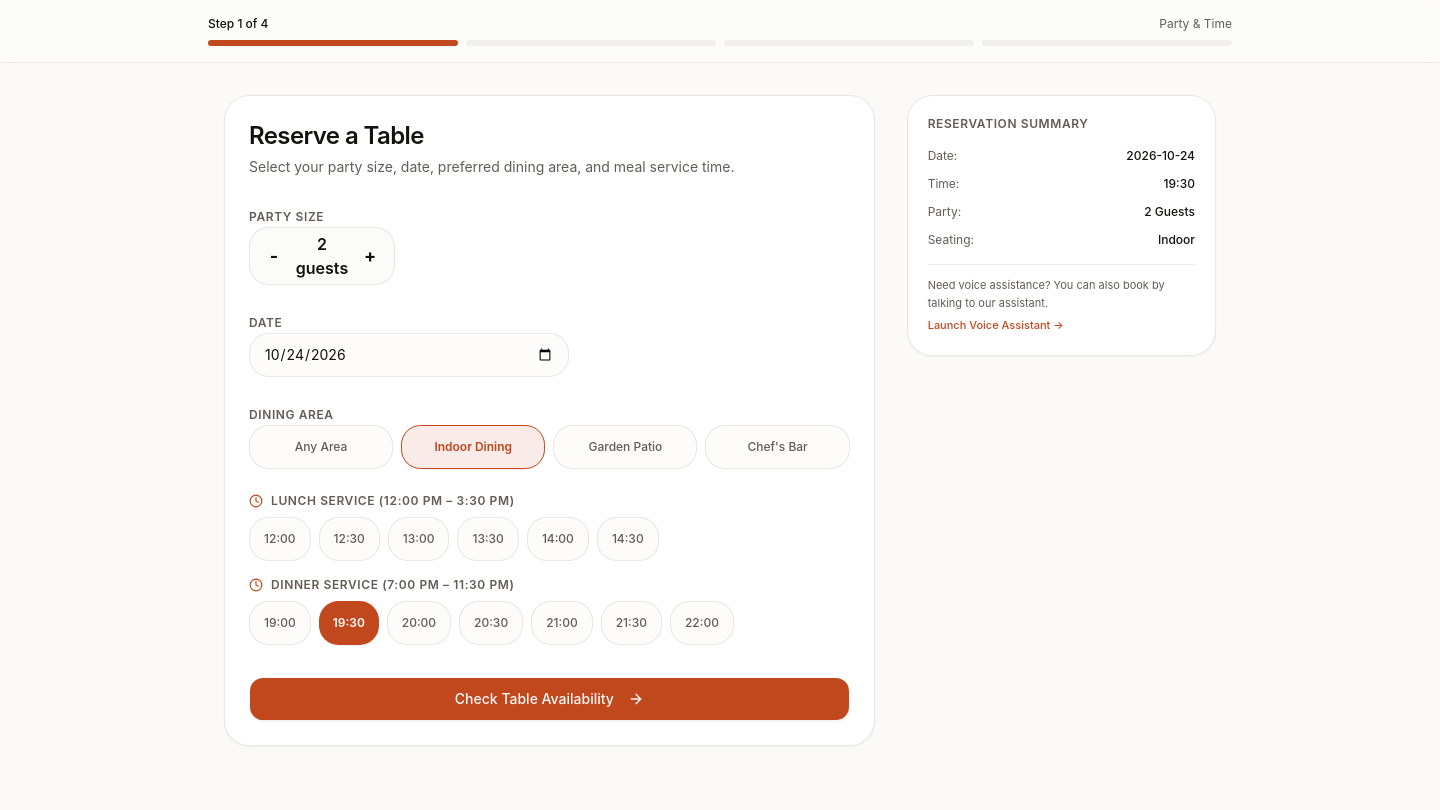
Test case: Reserve Page (/reserve) › displays ranked alternatives when peak conflict time is checked
This screenshot has width=1440, height=810.
// Pick 20:00 (configured conflict slot)
Click the button "20:00".
click(419, 623)  # box x1=387 y1=601 x2=451 y2=645
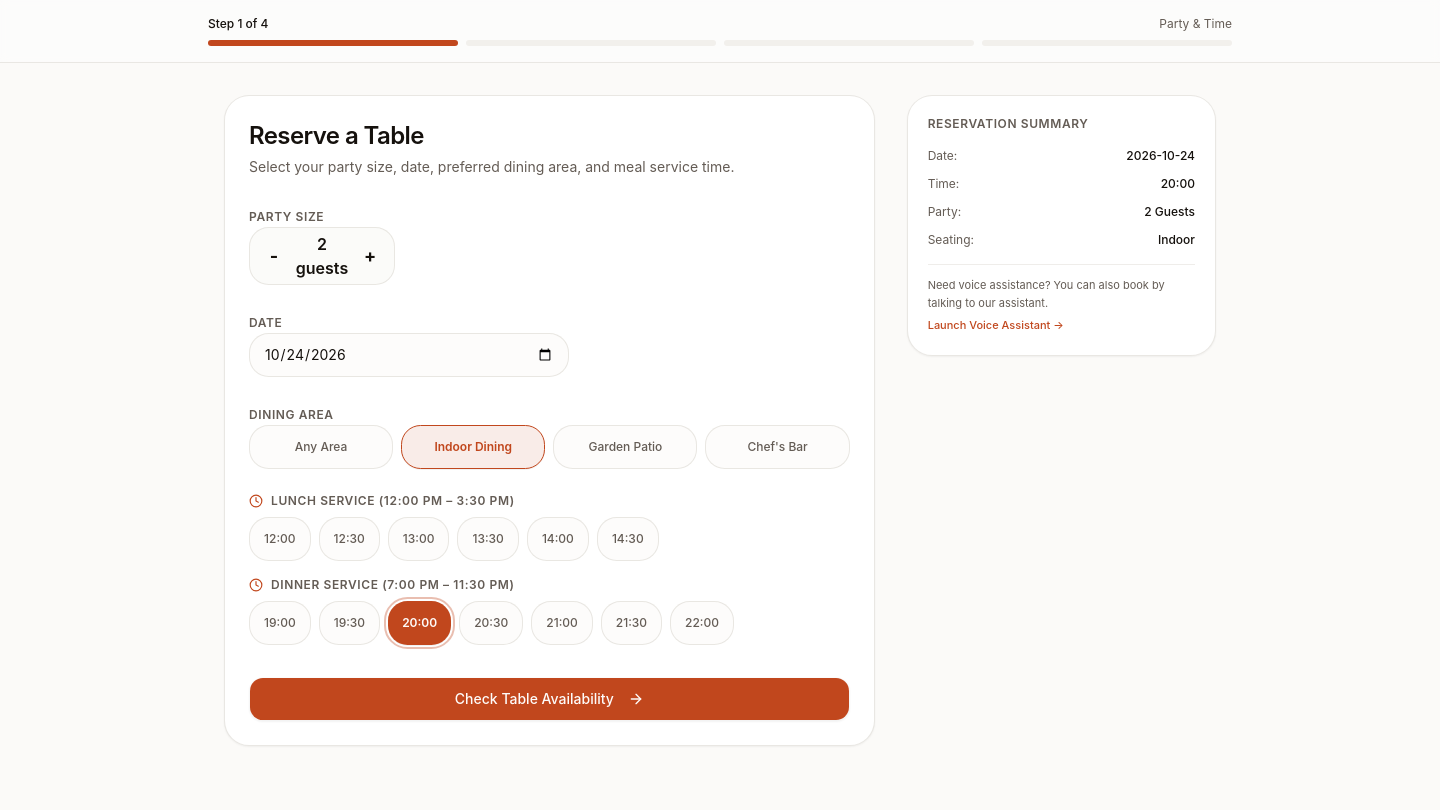
Click the button "Check Table Availability".
click(549, 699)  # box x1=249 y1=677 x2=850 y2=721
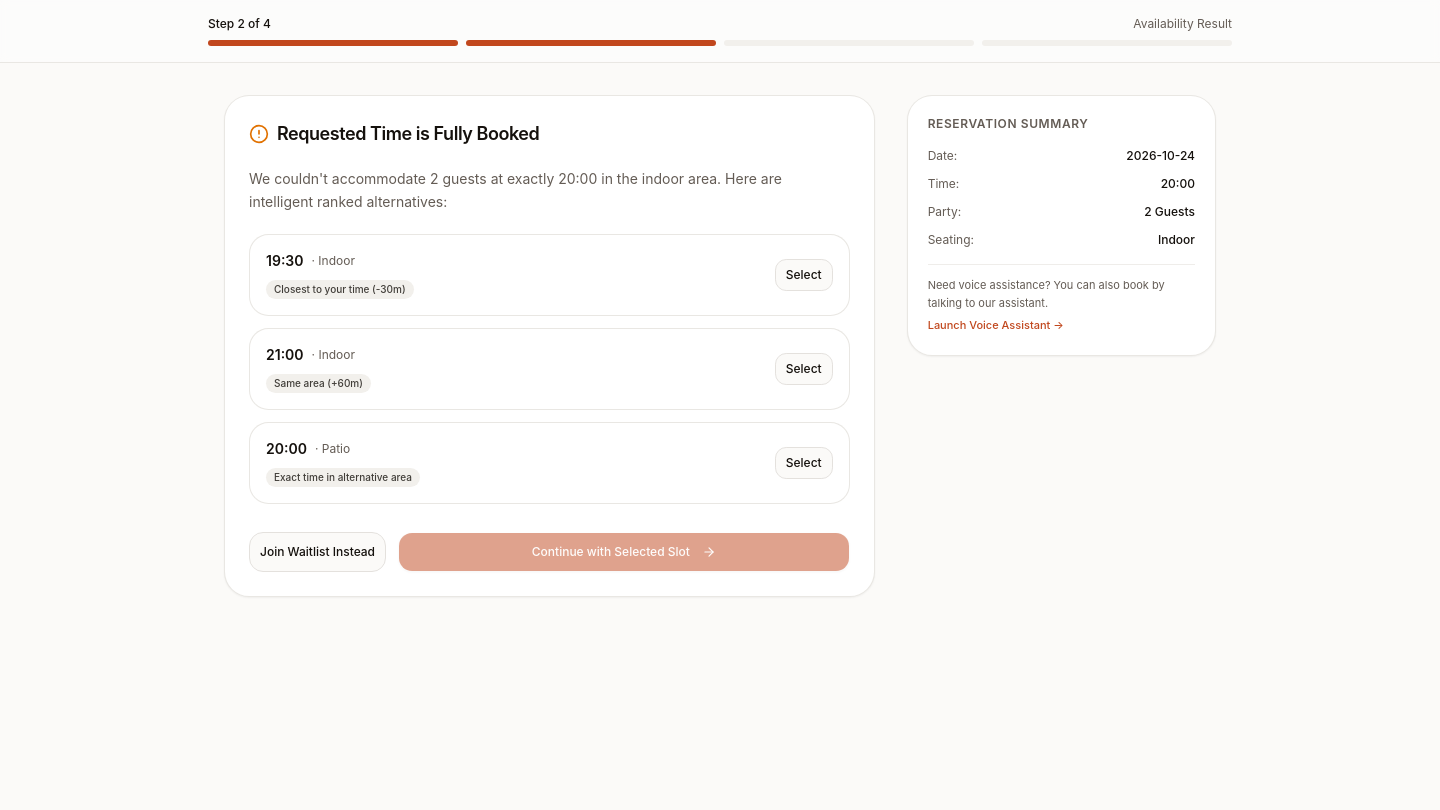
expect the heading "Requested Time is Fully Booked" is shown: met, box x1=277 y1=120 x2=539 y2=148
expect the text "Closest to your time (-30m)" is shown: met, box x1=266 y1=280 x2=414 y2=298
expect the button "Join Waitlist Instead" is shown: met, box x1=249 y1=532 x2=386 y2=572
